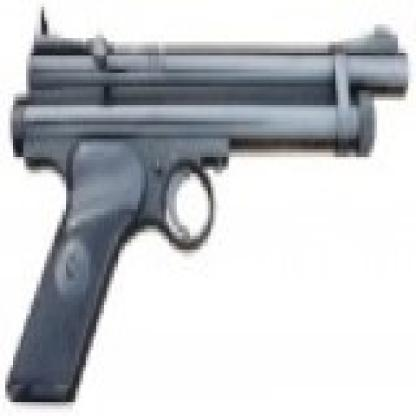handgun: (3, 7, 408, 399)
